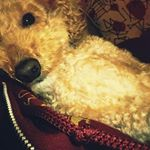puppy: (1, 3, 75, 94)
